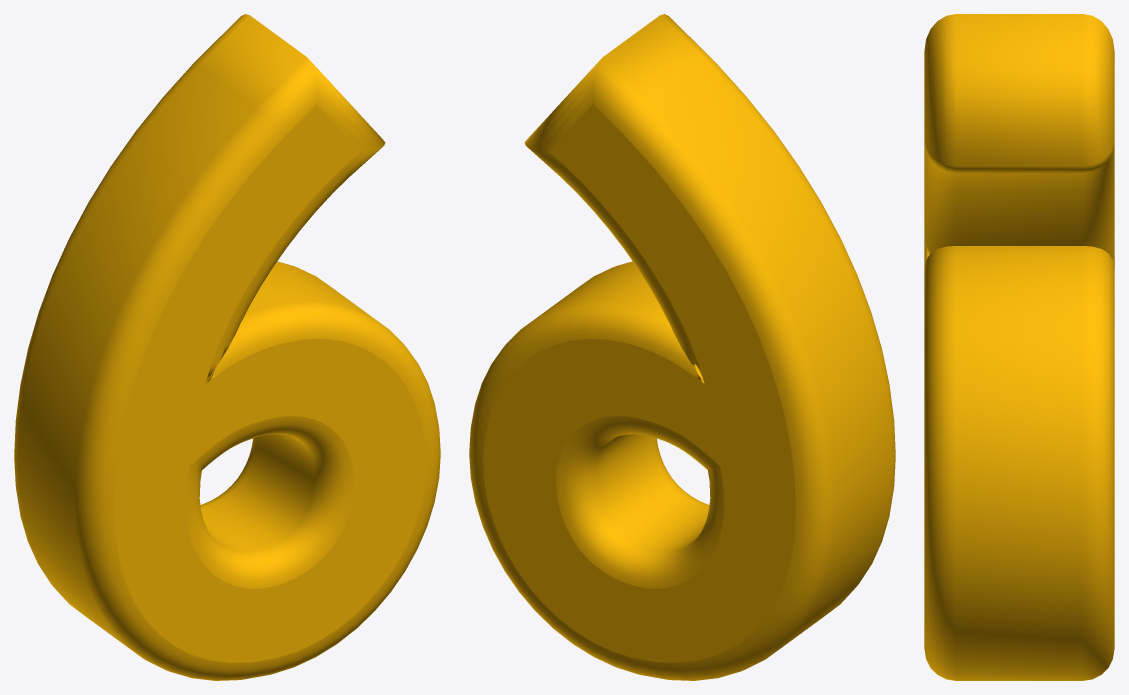
The picture shows the model from 3 angles, left to right: view 1: azimuth 30°, elevation 25°; view 2: azimuth 150°, elevation 25°; view 3: azimuth 270°, elevation 25°; orthographic projection. The views are drawn at different scales.
Visible parts, largest first — view 1: Text; view 2: Text; view 3: Text.
Boxes of the visible parts, x1=… form: Text: x1=14, y1=14, x2=440, y2=680; Text: x1=469, y1=14, x2=895, y2=680; Text: x1=924, y1=14, x2=1114, y2=680.
Size of the model in its own units: 1.46 by 2.34 by 0.6.
